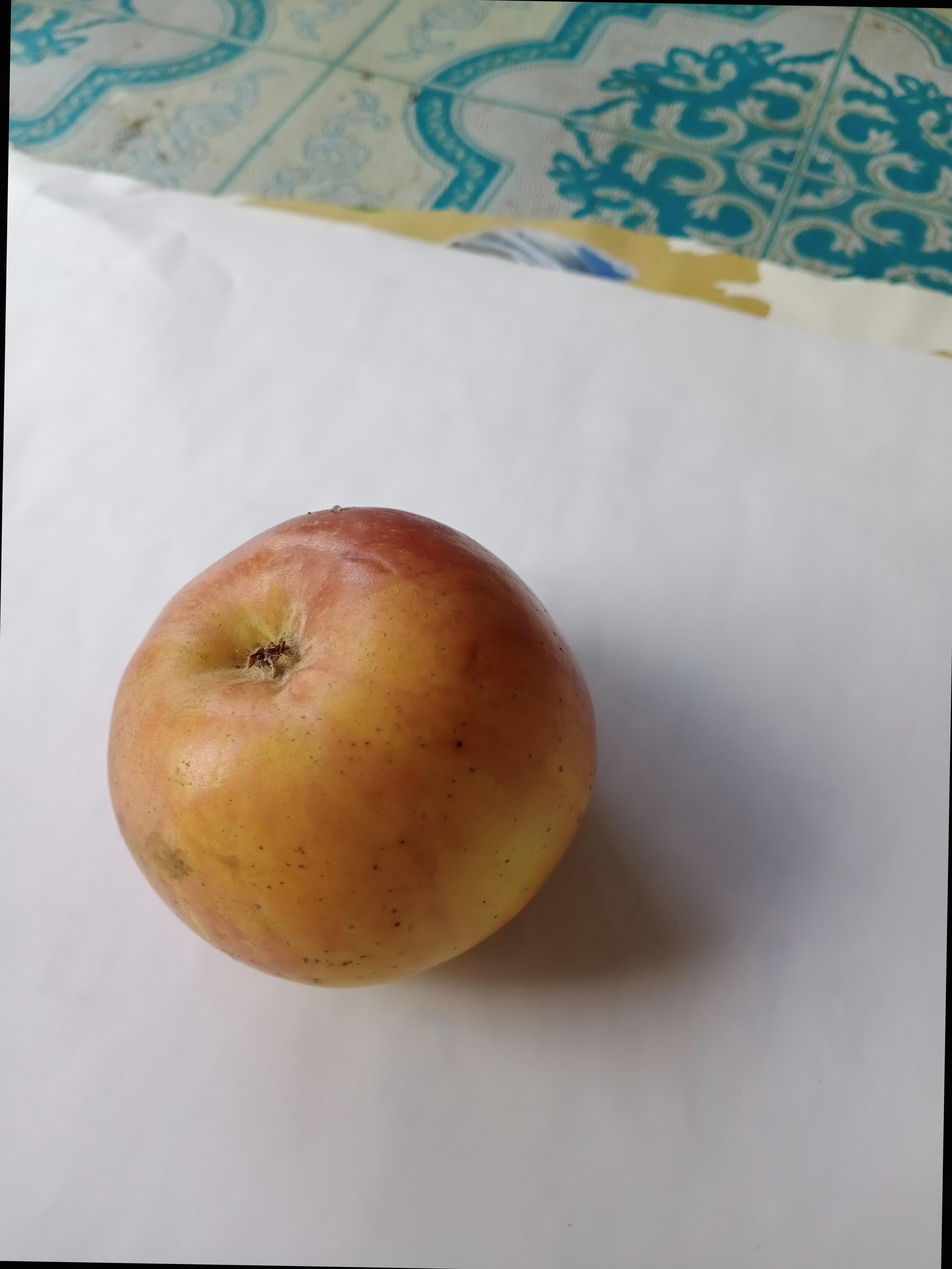Apple Ripe: (93, 479, 645, 1022)
